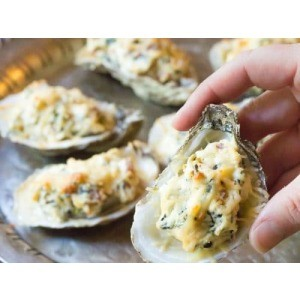oyster_brain food: (154, 136, 258, 247), (11, 160, 118, 241), (10, 84, 101, 144), (120, 49, 195, 90)
